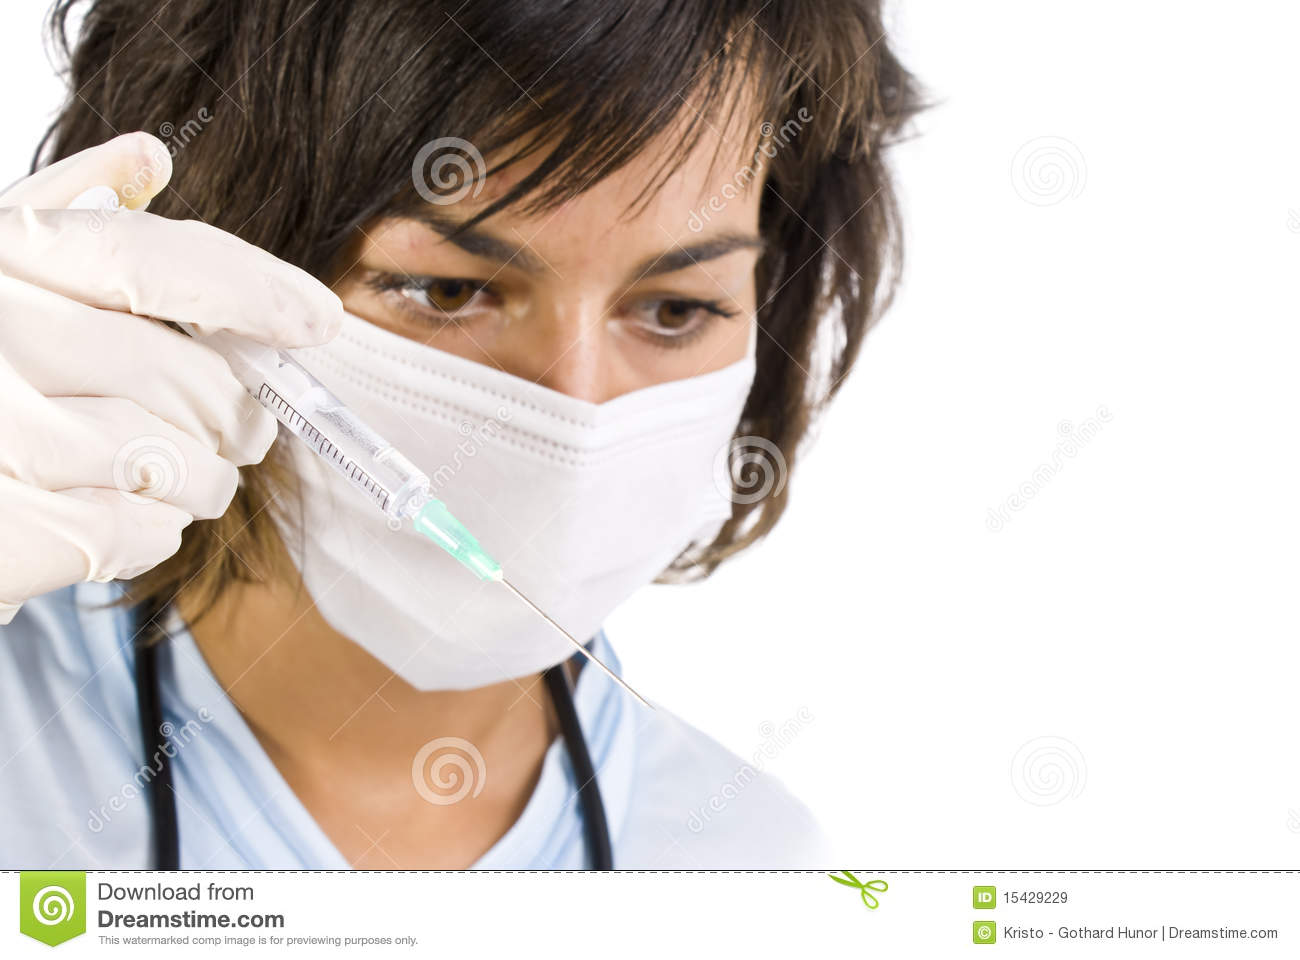mask: (245, 300, 752, 701)
